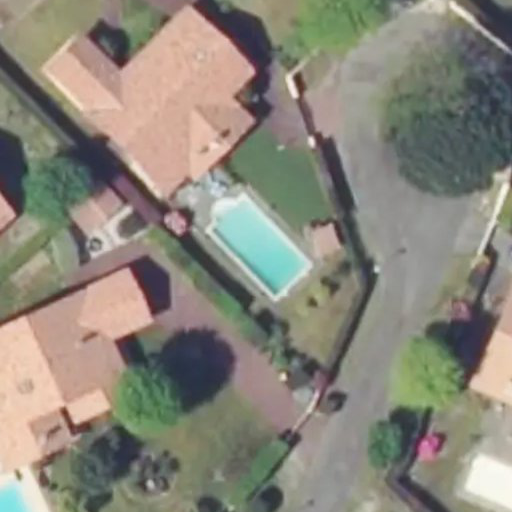pool: (204, 224, 307, 259)
